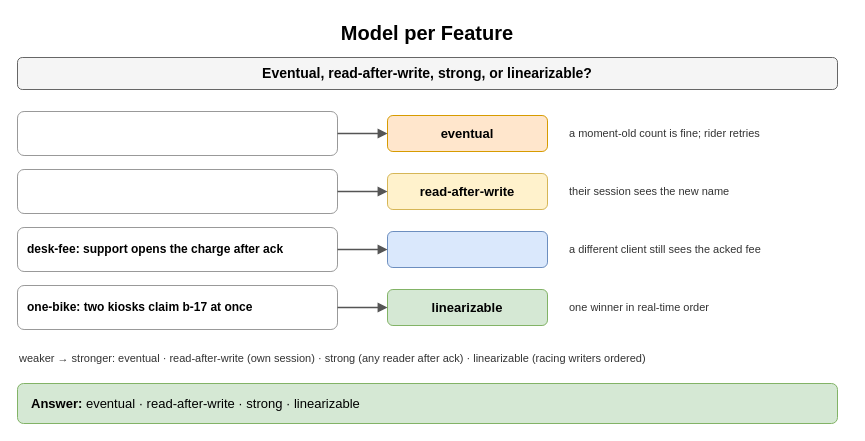
This 865x441 diagram has some shape labels left out. The box of each missing label's shape, as (x1, y1, x2, y2) in pixels:
display-name: rider reloads own page: (16, 168, 338, 214)
map-count: city map free bikes: (16, 110, 338, 156)
strong: (386, 230, 548, 268)
